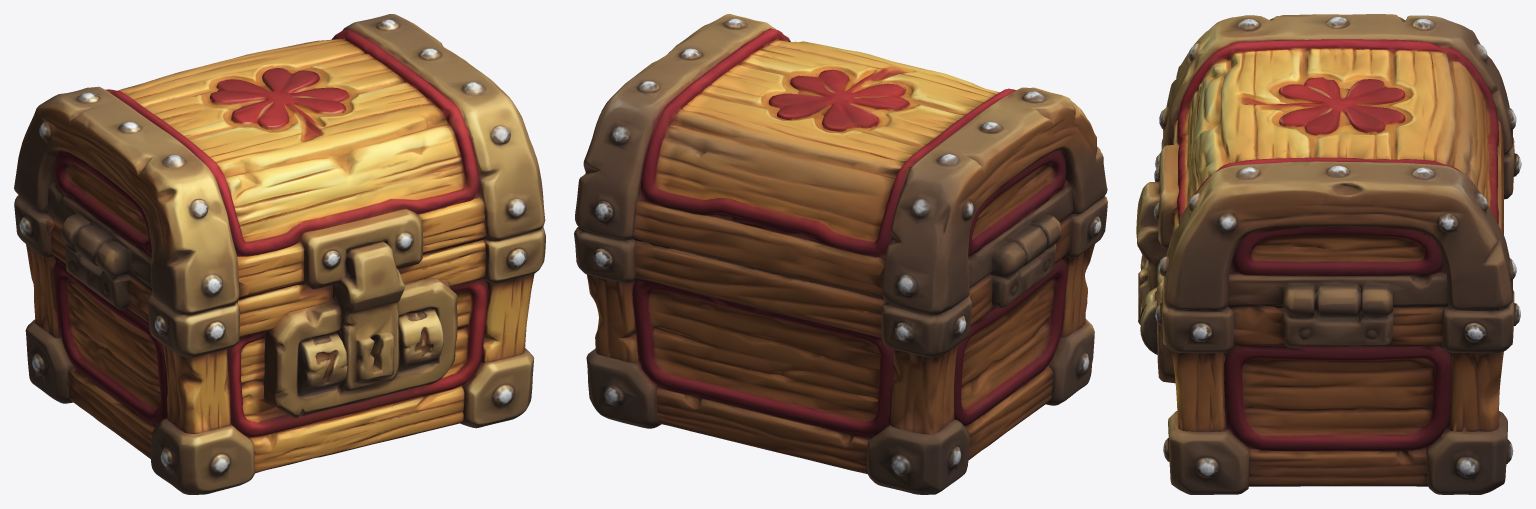
File: chest_jackpot.glb
3 renders of one model, left to right at view 1: azimuth 30°, elevation 25°; view 2: azimuth 150°, elevation 25°; view 3: azimuth 270°, elevation 25°, orthographic.
Visible parts, largest first — view 1: tripo_part_1, tripo_part_0, tripo_part_2, tripo_part_3, tripo_part_4, tripo_part_7, tripo_part_10, tripo_part_9, tripo_part_14, tripo_part_8, tripo_part_12; view 2: tripo_part_1, tripo_part_0, tripo_part_3, tripo_part_4, tripo_part_8, tripo_part_10, tripo_part_6, tripo_part_13, tripo_part_11, tripo_part_7; view 3: tripo_part_1, tripo_part_0, tripo_part_5, tripo_part_3, tripo_part_2, tripo_part_10, tripo_part_6, tripo_part_9, tripo_part_13, tripo_part_14, tripo_part_11, tripo_part_12 (+1 smaller).
Boxes of the visible parts, <box> form: tripo_part_1: <box>105,14,545,299</box>; tripo_part_0: <box>26,216,491,473</box>; tripo_part_2: <box>256,209,457,417</box>; tripo_part_3: <box>14,86,250,315</box>; tripo_part_4: <box>14,150,239,358</box>; tripo_part_7: <box>150,418,256,494</box>; tripo_part_10: <box>209,68,349,130</box>; tripo_part_9: <box>460,348,534,428</box>; tripo_part_14: <box>482,273,534,362</box>; tripo_part_8: <box>25,319,73,403</box>; tripo_part_12: <box>483,227,545,284</box>; tripo_part_1: <box>575,14,1016,299</box>; tripo_part_0: <box>629,241,1094,474</box>; tripo_part_3: <box>866,87,1107,315</box>; tripo_part_4: <box>881,150,1107,357</box>; tripo_part_8: <box>867,419,969,494</box>; tripo_part_10: <box>768,69,909,131</box>; tripo_part_6: <box>586,348,661,428</box>; tripo_part_13: <box>587,274,638,363</box>; tripo_part_11: <box>574,226,636,283</box>; tripo_part_7: <box>1046,319,1094,405</box>; tripo_part_1: <box>1159,39,1516,311</box>; tripo_part_0: <box>1223,190,1503,486</box>; tripo_part_5: <box>1228,227,1447,347</box>; tripo_part_3: <box>1159,14,1516,154</box>; tripo_part_2: <box>1136,144,1179,383</box>; tripo_part_10: <box>1278,77,1405,135</box>; tripo_part_6: <box>1426,411,1513,494</box>; tripo_part_9: <box>1163,411,1249,494</box>; tripo_part_13: <box>1449,351,1503,431</box>; tripo_part_14: <box>1172,351,1225,431</box>; tripo_part_11: <box>1442,290,1520,353</box>; tripo_part_12: <box>1155,288,1234,353</box>.
Size of the model in its own units: 0.9793 by 0.7412 by 0.8103.
1 material, 1 textured.
